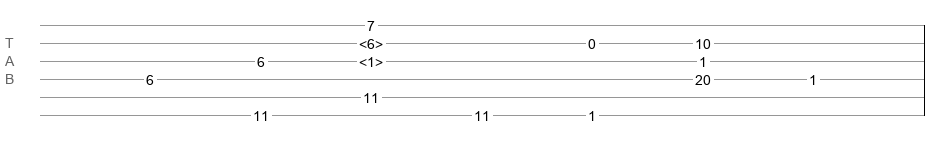0: (588, 36, 596, 46)
1: (588, 108, 596, 118), (699, 54, 707, 64), (809, 72, 817, 82)
10: (695, 36, 711, 46)
11: (253, 108, 269, 118), (363, 90, 379, 100), (474, 108, 490, 118)
20: (695, 72, 711, 82)
6: (146, 72, 154, 82), (257, 54, 265, 64)
7: (367, 18, 375, 28)
harmonic: (359, 36, 383, 46), (359, 54, 383, 64)
